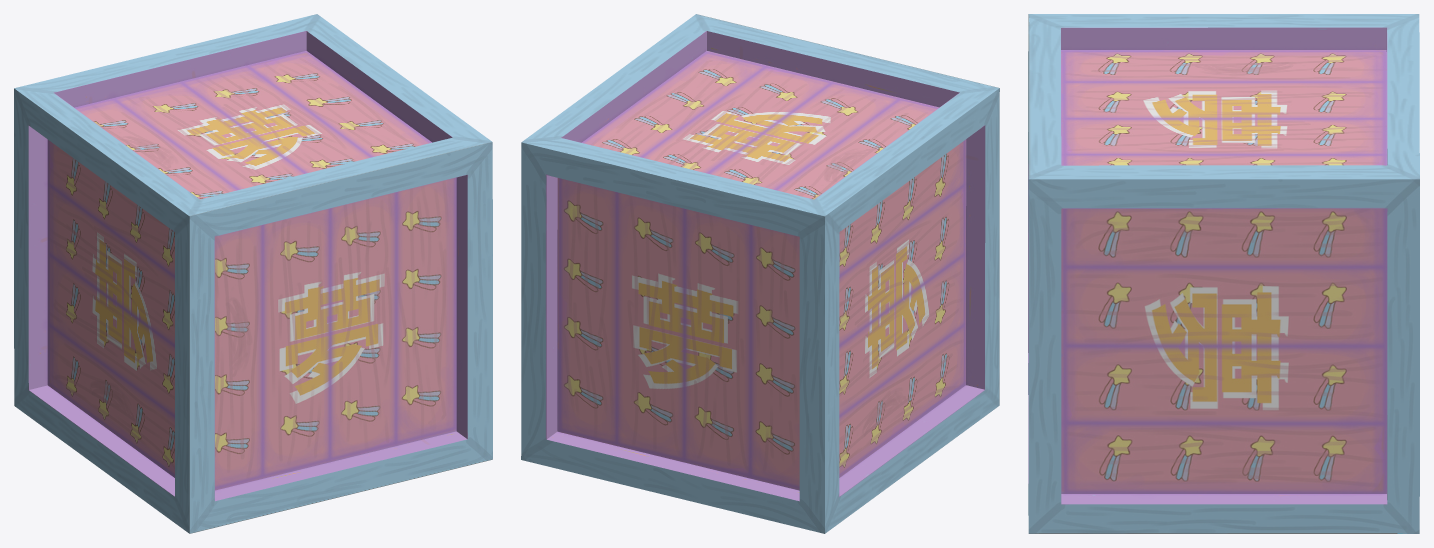
3 views of the same model, side by side, from view 1: azimuth 30°, elevation 25°; view 2: azimuth 150°, elevation 25°; view 3: azimuth 270°, elevation 25° (orthographic). The views are drawn at different scales.
Visible parts, largest first — view 1: cube3; view 2: cube3; view 3: cube3.
Part boxes in pixels (x1=…): cube3: x1=14, y1=14, x2=492, y2=533; cube3: x1=521, y1=14, x2=999, y2=533; cube3: x1=1028, y1=14, x2=1419, y2=533.
Size of the model in its own units: 1 by 1 by 1.
1 material, 1 textured.
